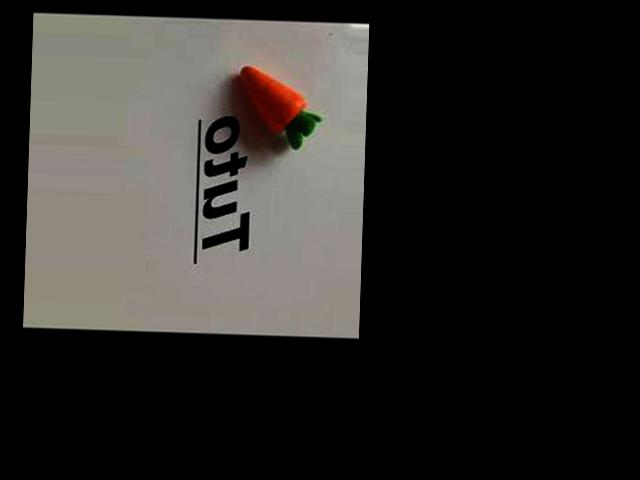carrot: (222, 57, 306, 135)
